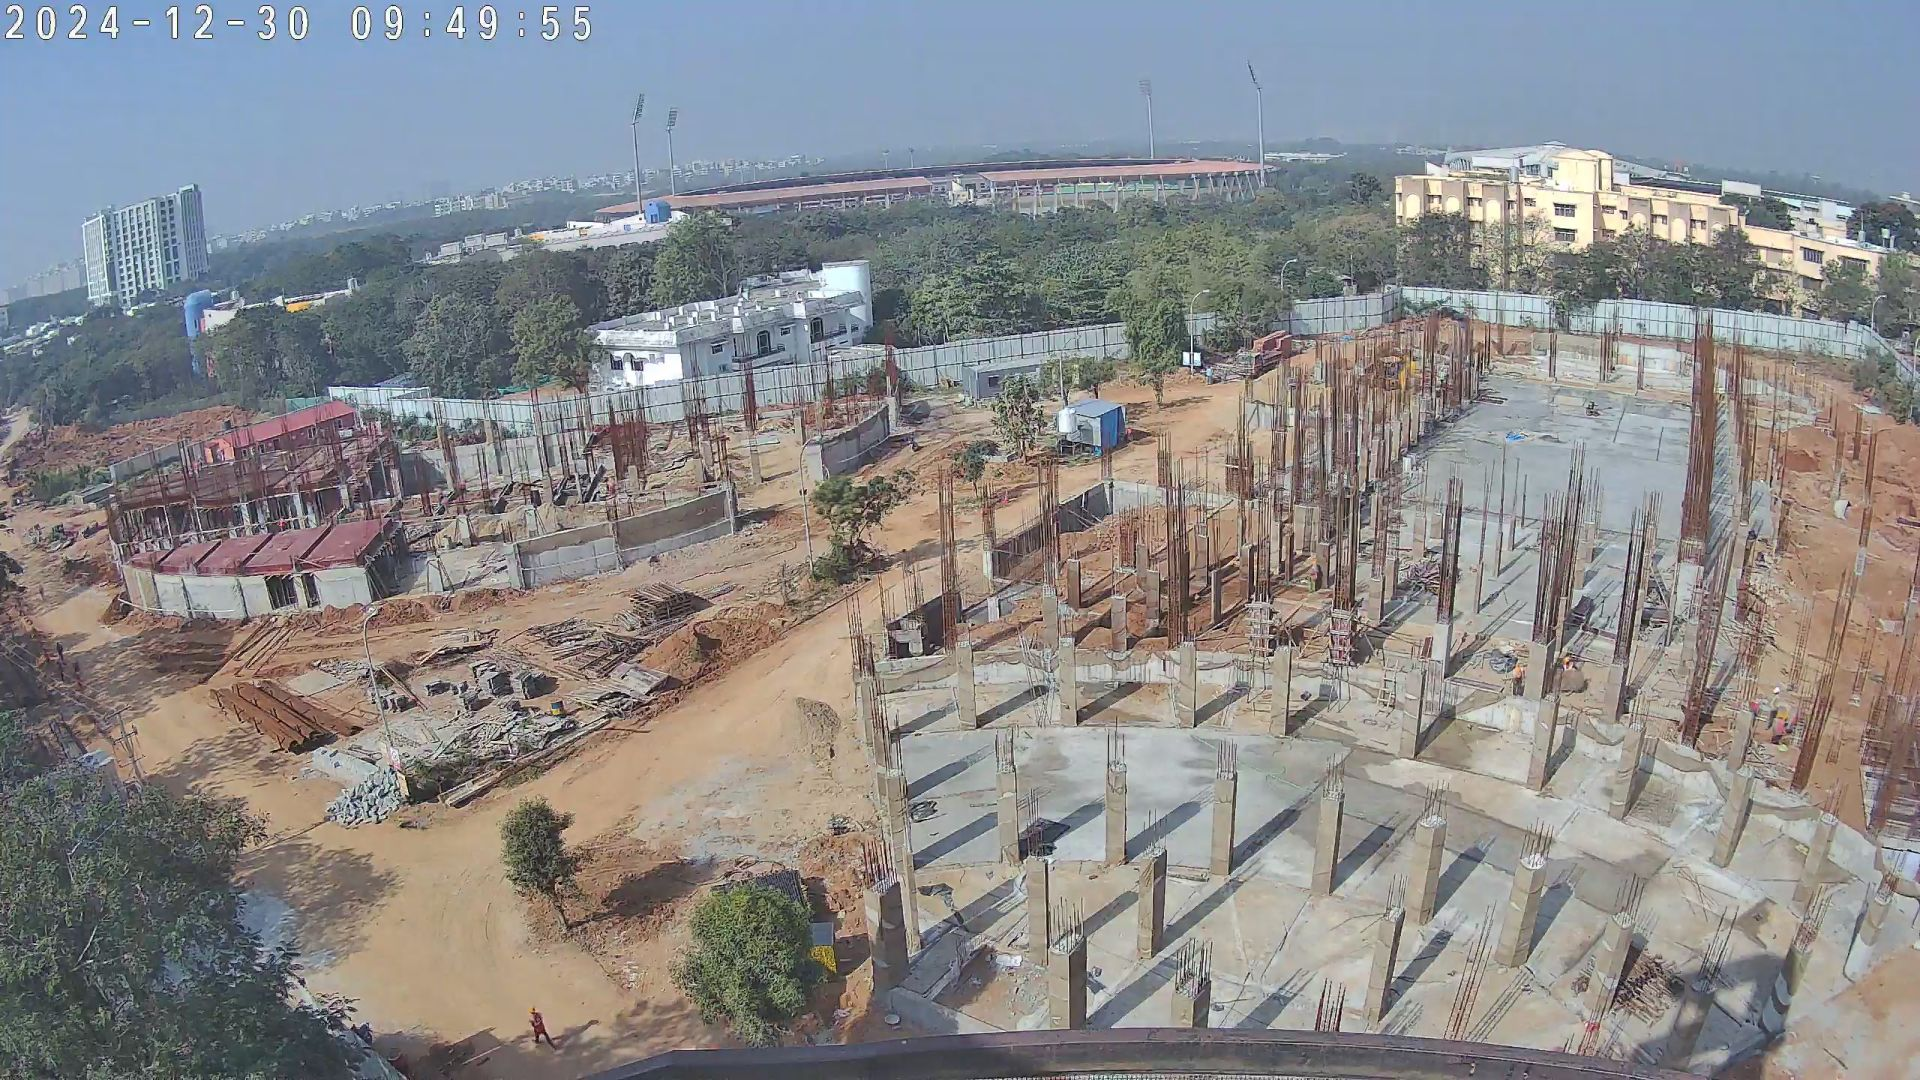truck: (1230, 341, 1287, 380)
worker: (525, 1004, 561, 1052), (1301, 551, 1325, 595), (1769, 707, 1790, 749), (1509, 658, 1528, 695), (1558, 649, 1581, 674), (1751, 695, 1763, 726), (35, 582, 51, 604), (53, 640, 67, 664), (1124, 423, 1138, 447), (276, 513, 290, 536), (1204, 364, 1214, 386)
